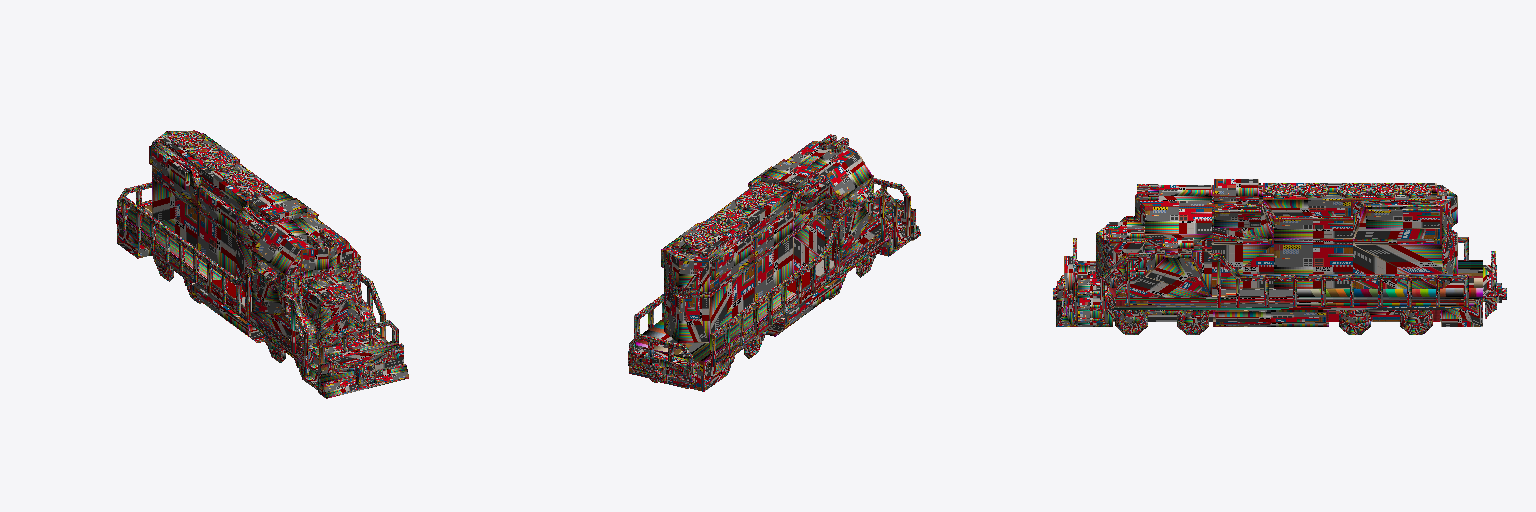
The picture shows the model from 3 angles: view 1: azimuth 30°, elevation 25°; view 2: azimuth 150°, elevation 25°; view 3: azimuth 270°, elevation 25°; orthographic projection.
Visible parts, largest first — view 1: SM_Veh_Freight_01.001_SM_Veh_Freight_01; view 2: SM_Veh_Freight_01.001_SM_Veh_Freight_01; view 3: SM_Veh_Freight_01.001_SM_Veh_Freight_01.
Boxes of the visible parts, x1=… form: SM_Veh_Freight_01.001_SM_Veh_Freight_01: x1=116, y1=130, x2=408, y2=398; SM_Veh_Freight_01.001_SM_Veh_Freight_01: x1=628, y1=134, x2=920, y2=391; SM_Veh_Freight_01.001_SM_Veh_Freight_01: x1=1053, y1=179, x2=1506, y2=334.
Size of the model in its own units: 0.5401 by 0.7709 by 2.32.
1 materials, 1 textured.